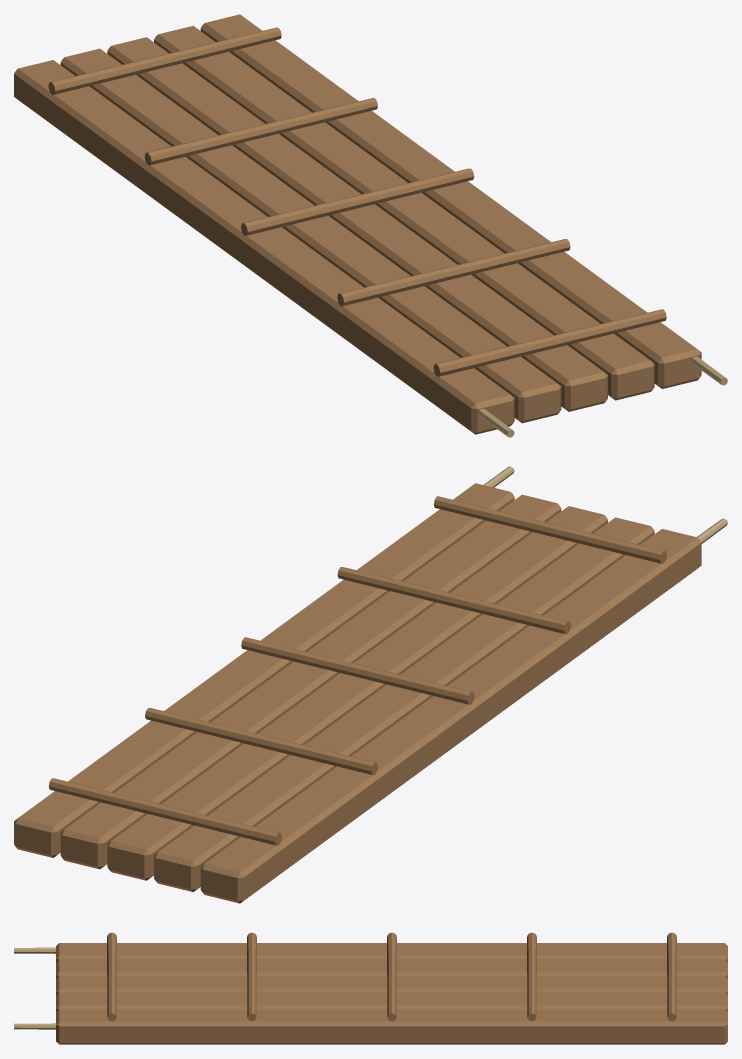
3 views of the same model, one above another, from view 1: azimuth 30°, elevation 25°; view 2: azimuth 150°, elevation 25°; view 3: azimuth 270°, elevation 25° (orthographic). The views are drawn at different scales.
Parts seen in each view (by area): view 1: CE-032 Cross-batten loading gangplank batched; view 2: CE-032 Cross-batten loading gangplank batched; view 3: CE-032 Cross-batten loading gangplank batched.
Boxes of the visible parts, x1,y1,x2,y2 form: CE-032 Cross-batten loading gangplank batched: (14, 14, 727, 437); CE-032 Cross-batten loading gangplank batched: (14, 466, 727, 903); CE-032 Cross-batten loading gangplank batched: (14, 932, 727, 1044).
Size of the model in its own units: 0.69 by 0.128 by 2.55.
